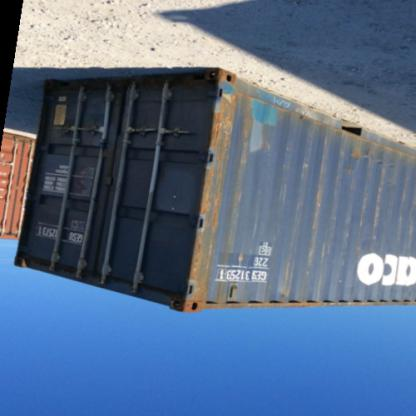Damage: (174, 86, 258, 308), (304, 130, 338, 268), (346, 148, 402, 182), (368, 184, 387, 252), (274, 256, 296, 306), (351, 202, 367, 258)
